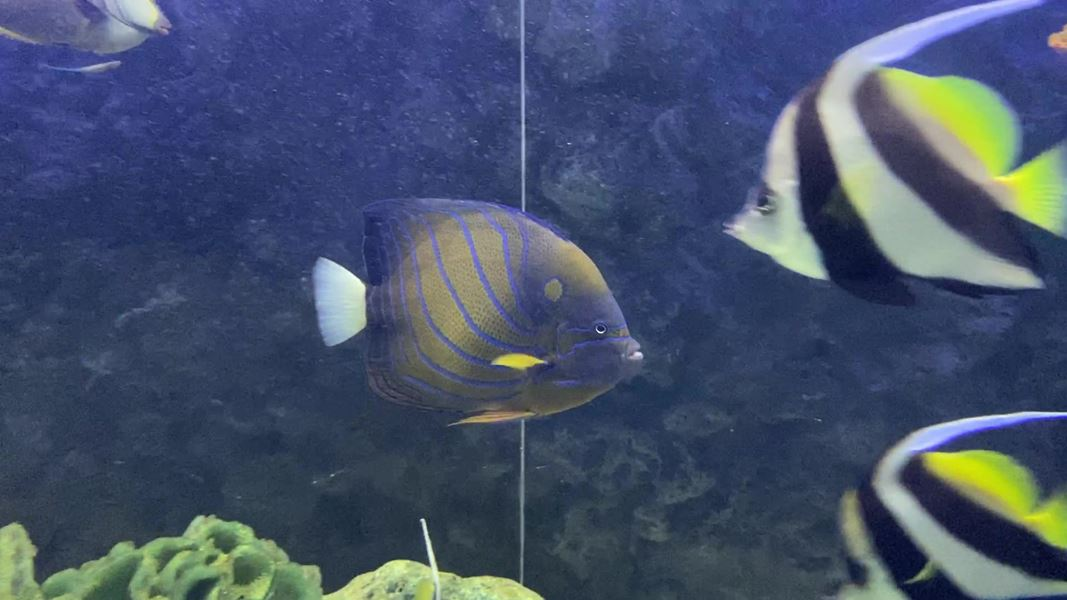Blue ring angelfish: (298, 183, 658, 447)
